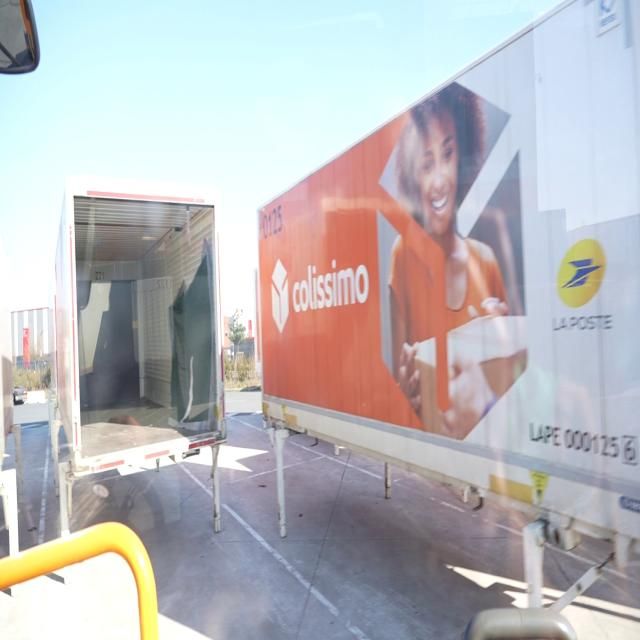Code: (258, 205, 296, 245)
